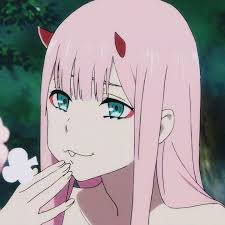zeroTwo: (33, 1, 205, 182)
